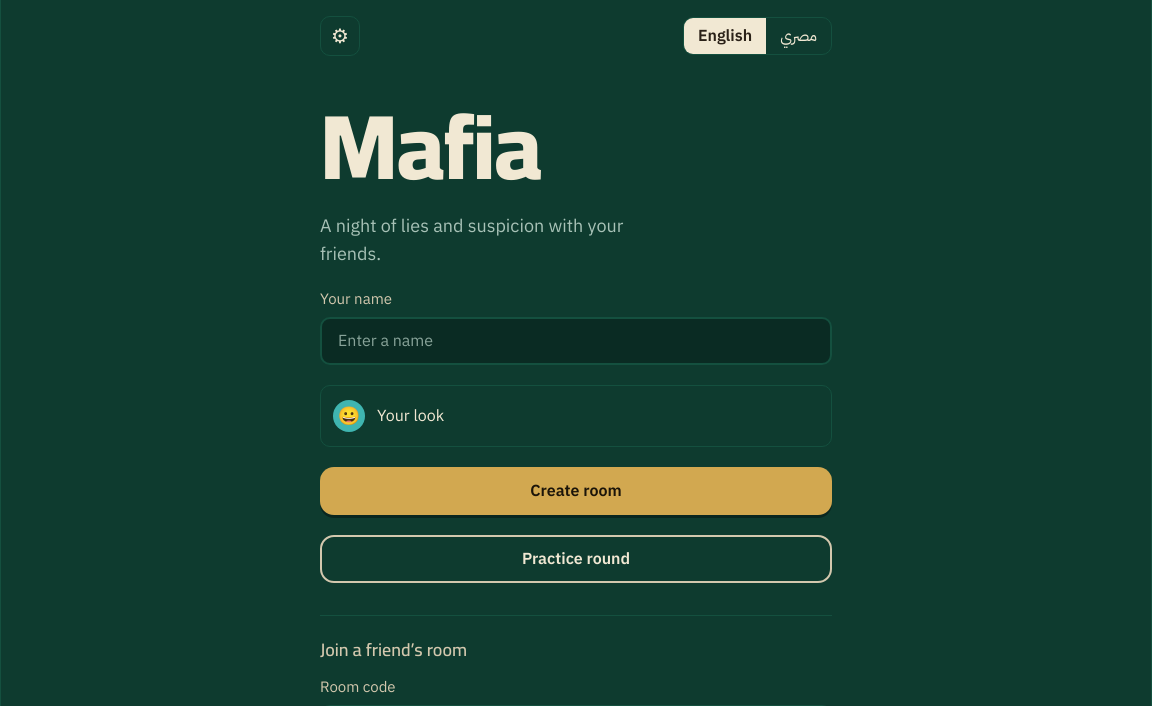
Test: settings › toggles are saved and applied to the page
The width and height of the screenshot is (1152, 706).
Click the button named "Settings" at (340, 36), box [320,16,360,56]
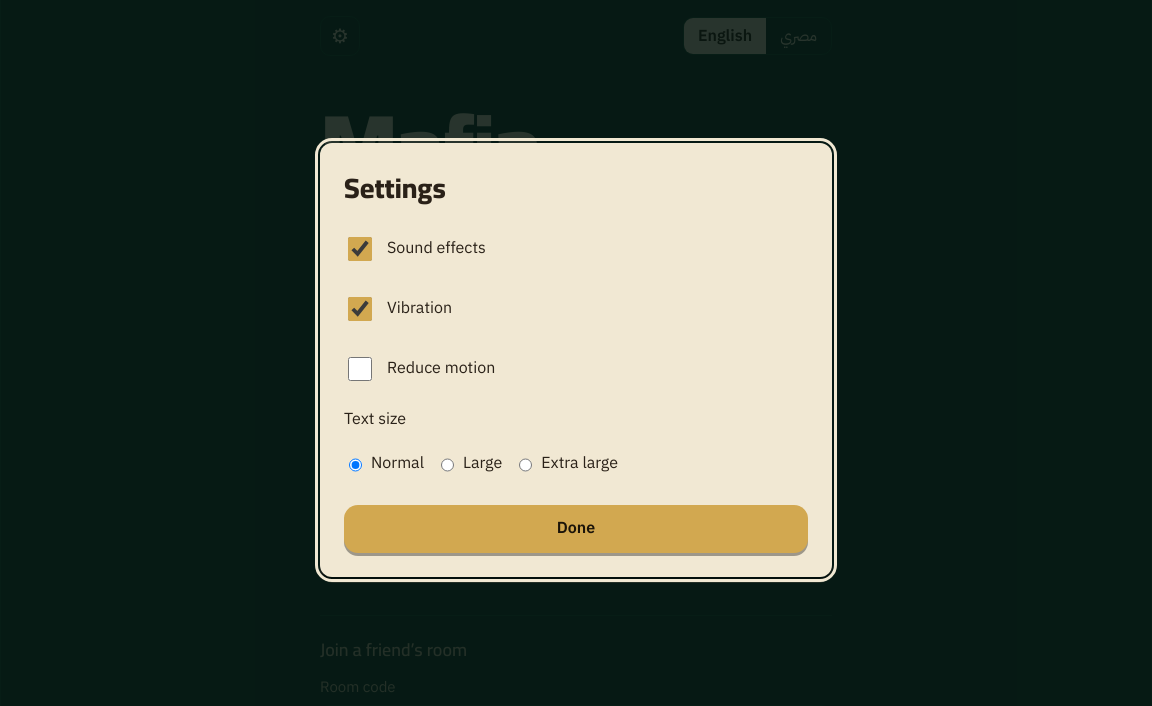
Click the radio button labelled "Large" at (448, 465), box [441,441,454,489]
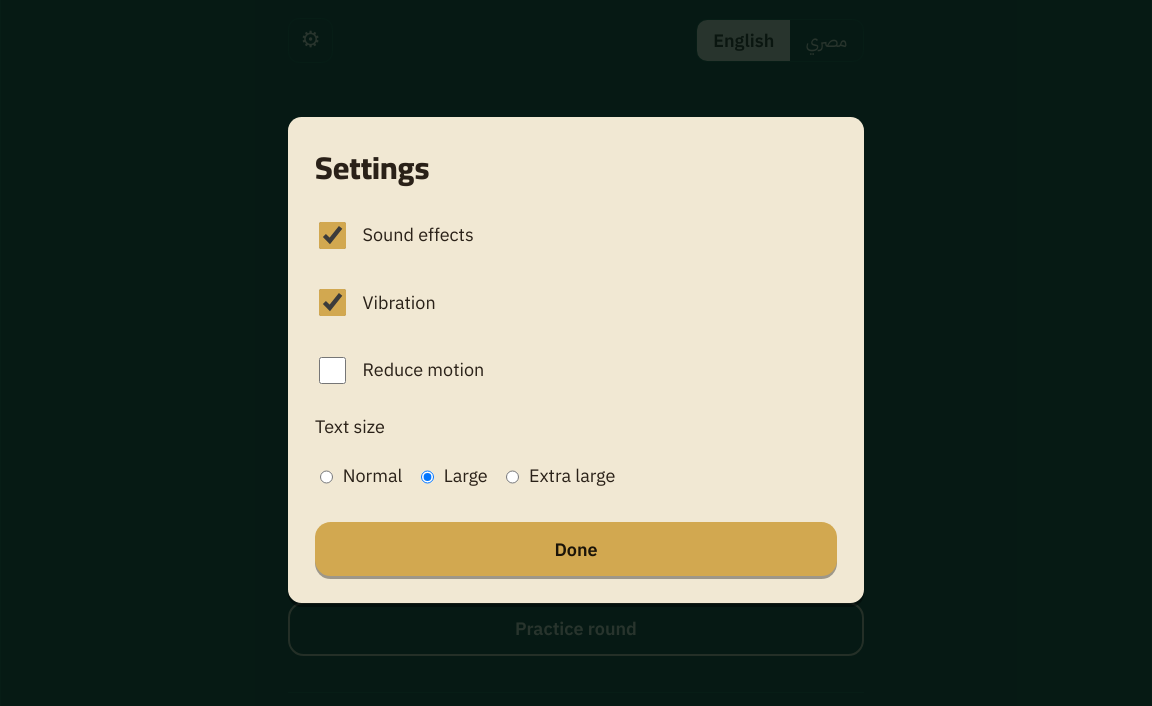
Click the checkbox labelled "Reduce motion" at (332, 370), box [319,357,346,384]
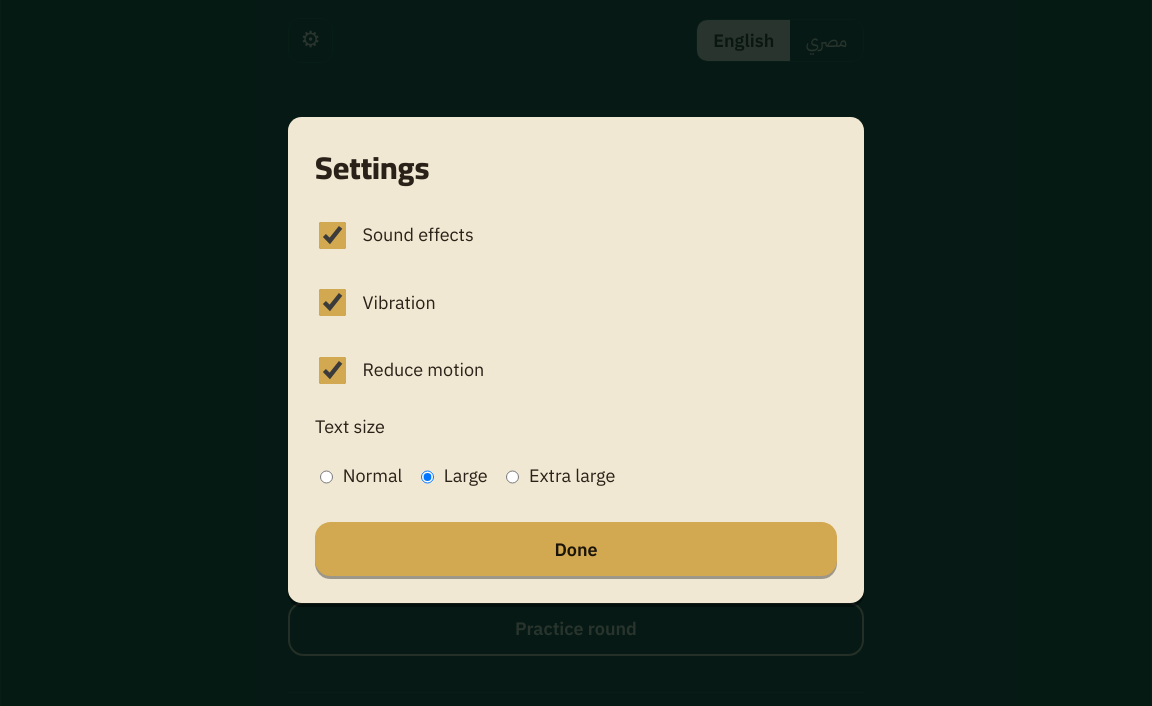
Click the checkbox labelled "Sound effects" at (332, 235), box [319,222,346,249]
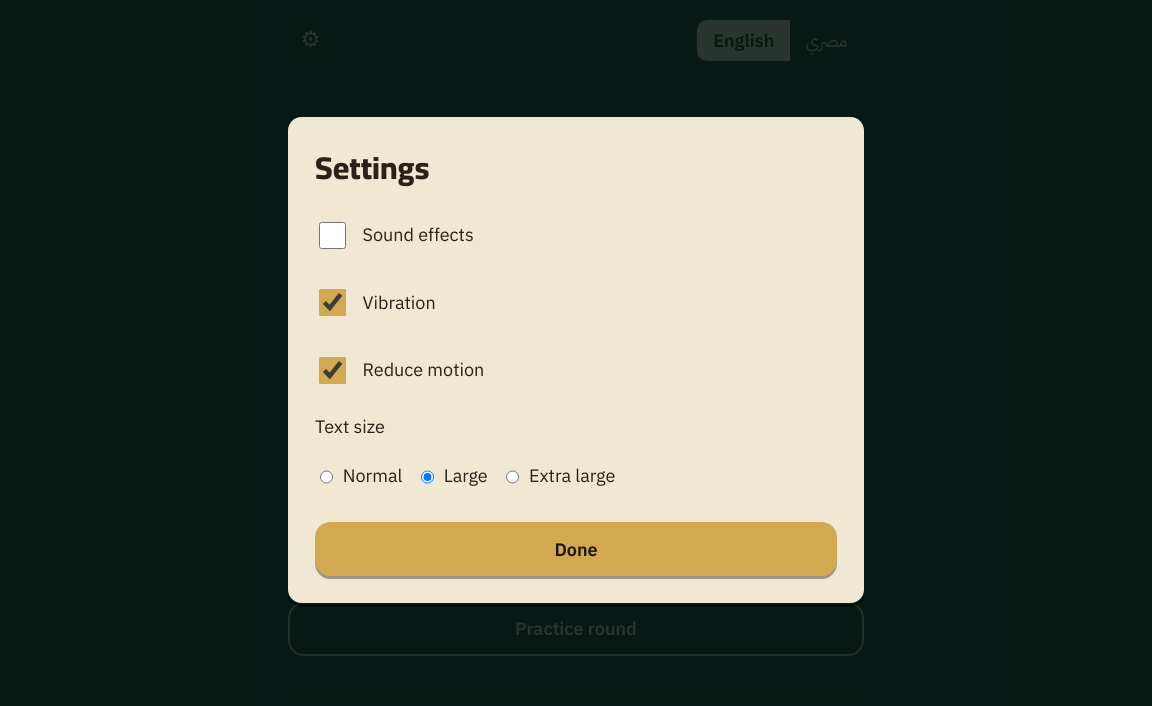
Press Escape
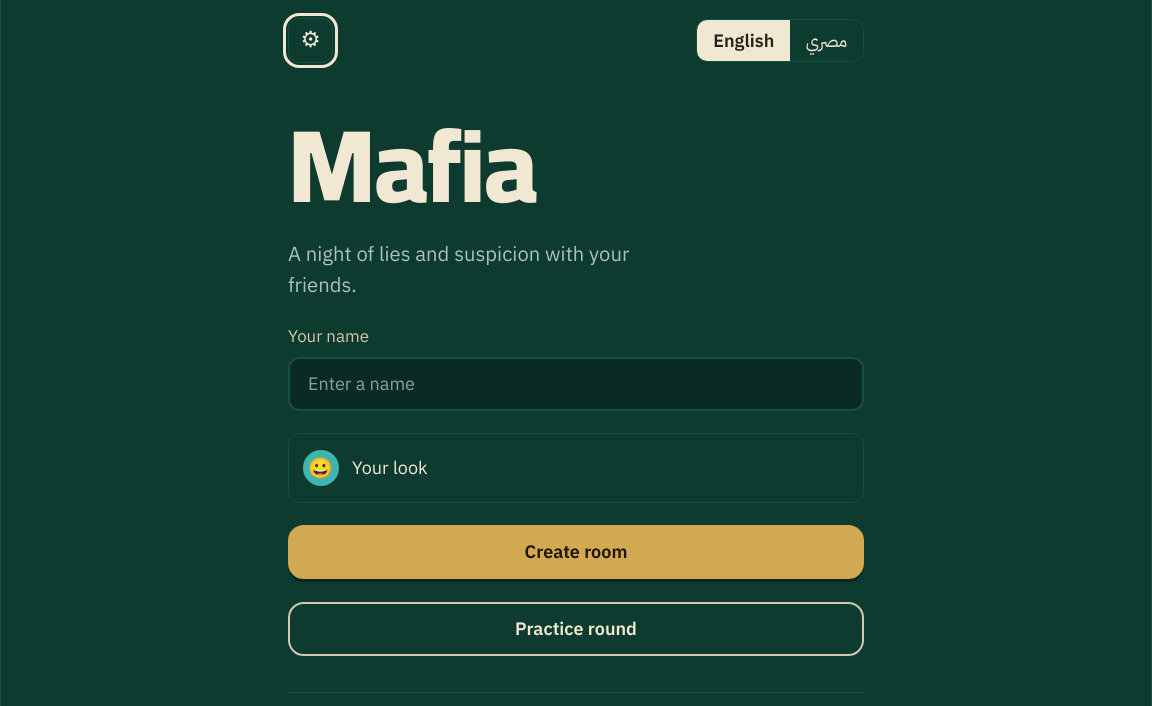
Result: the heading "Settings" is gone
